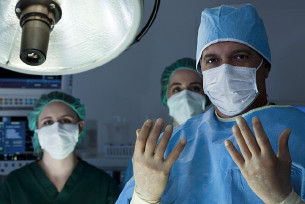face_mask: (202, 40, 259, 115), (36, 102, 79, 159), (166, 72, 206, 121)
